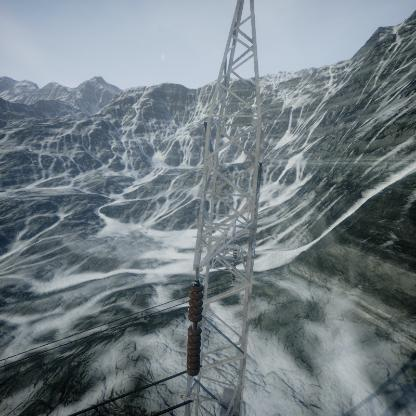insulator: (185, 280, 204, 377)
